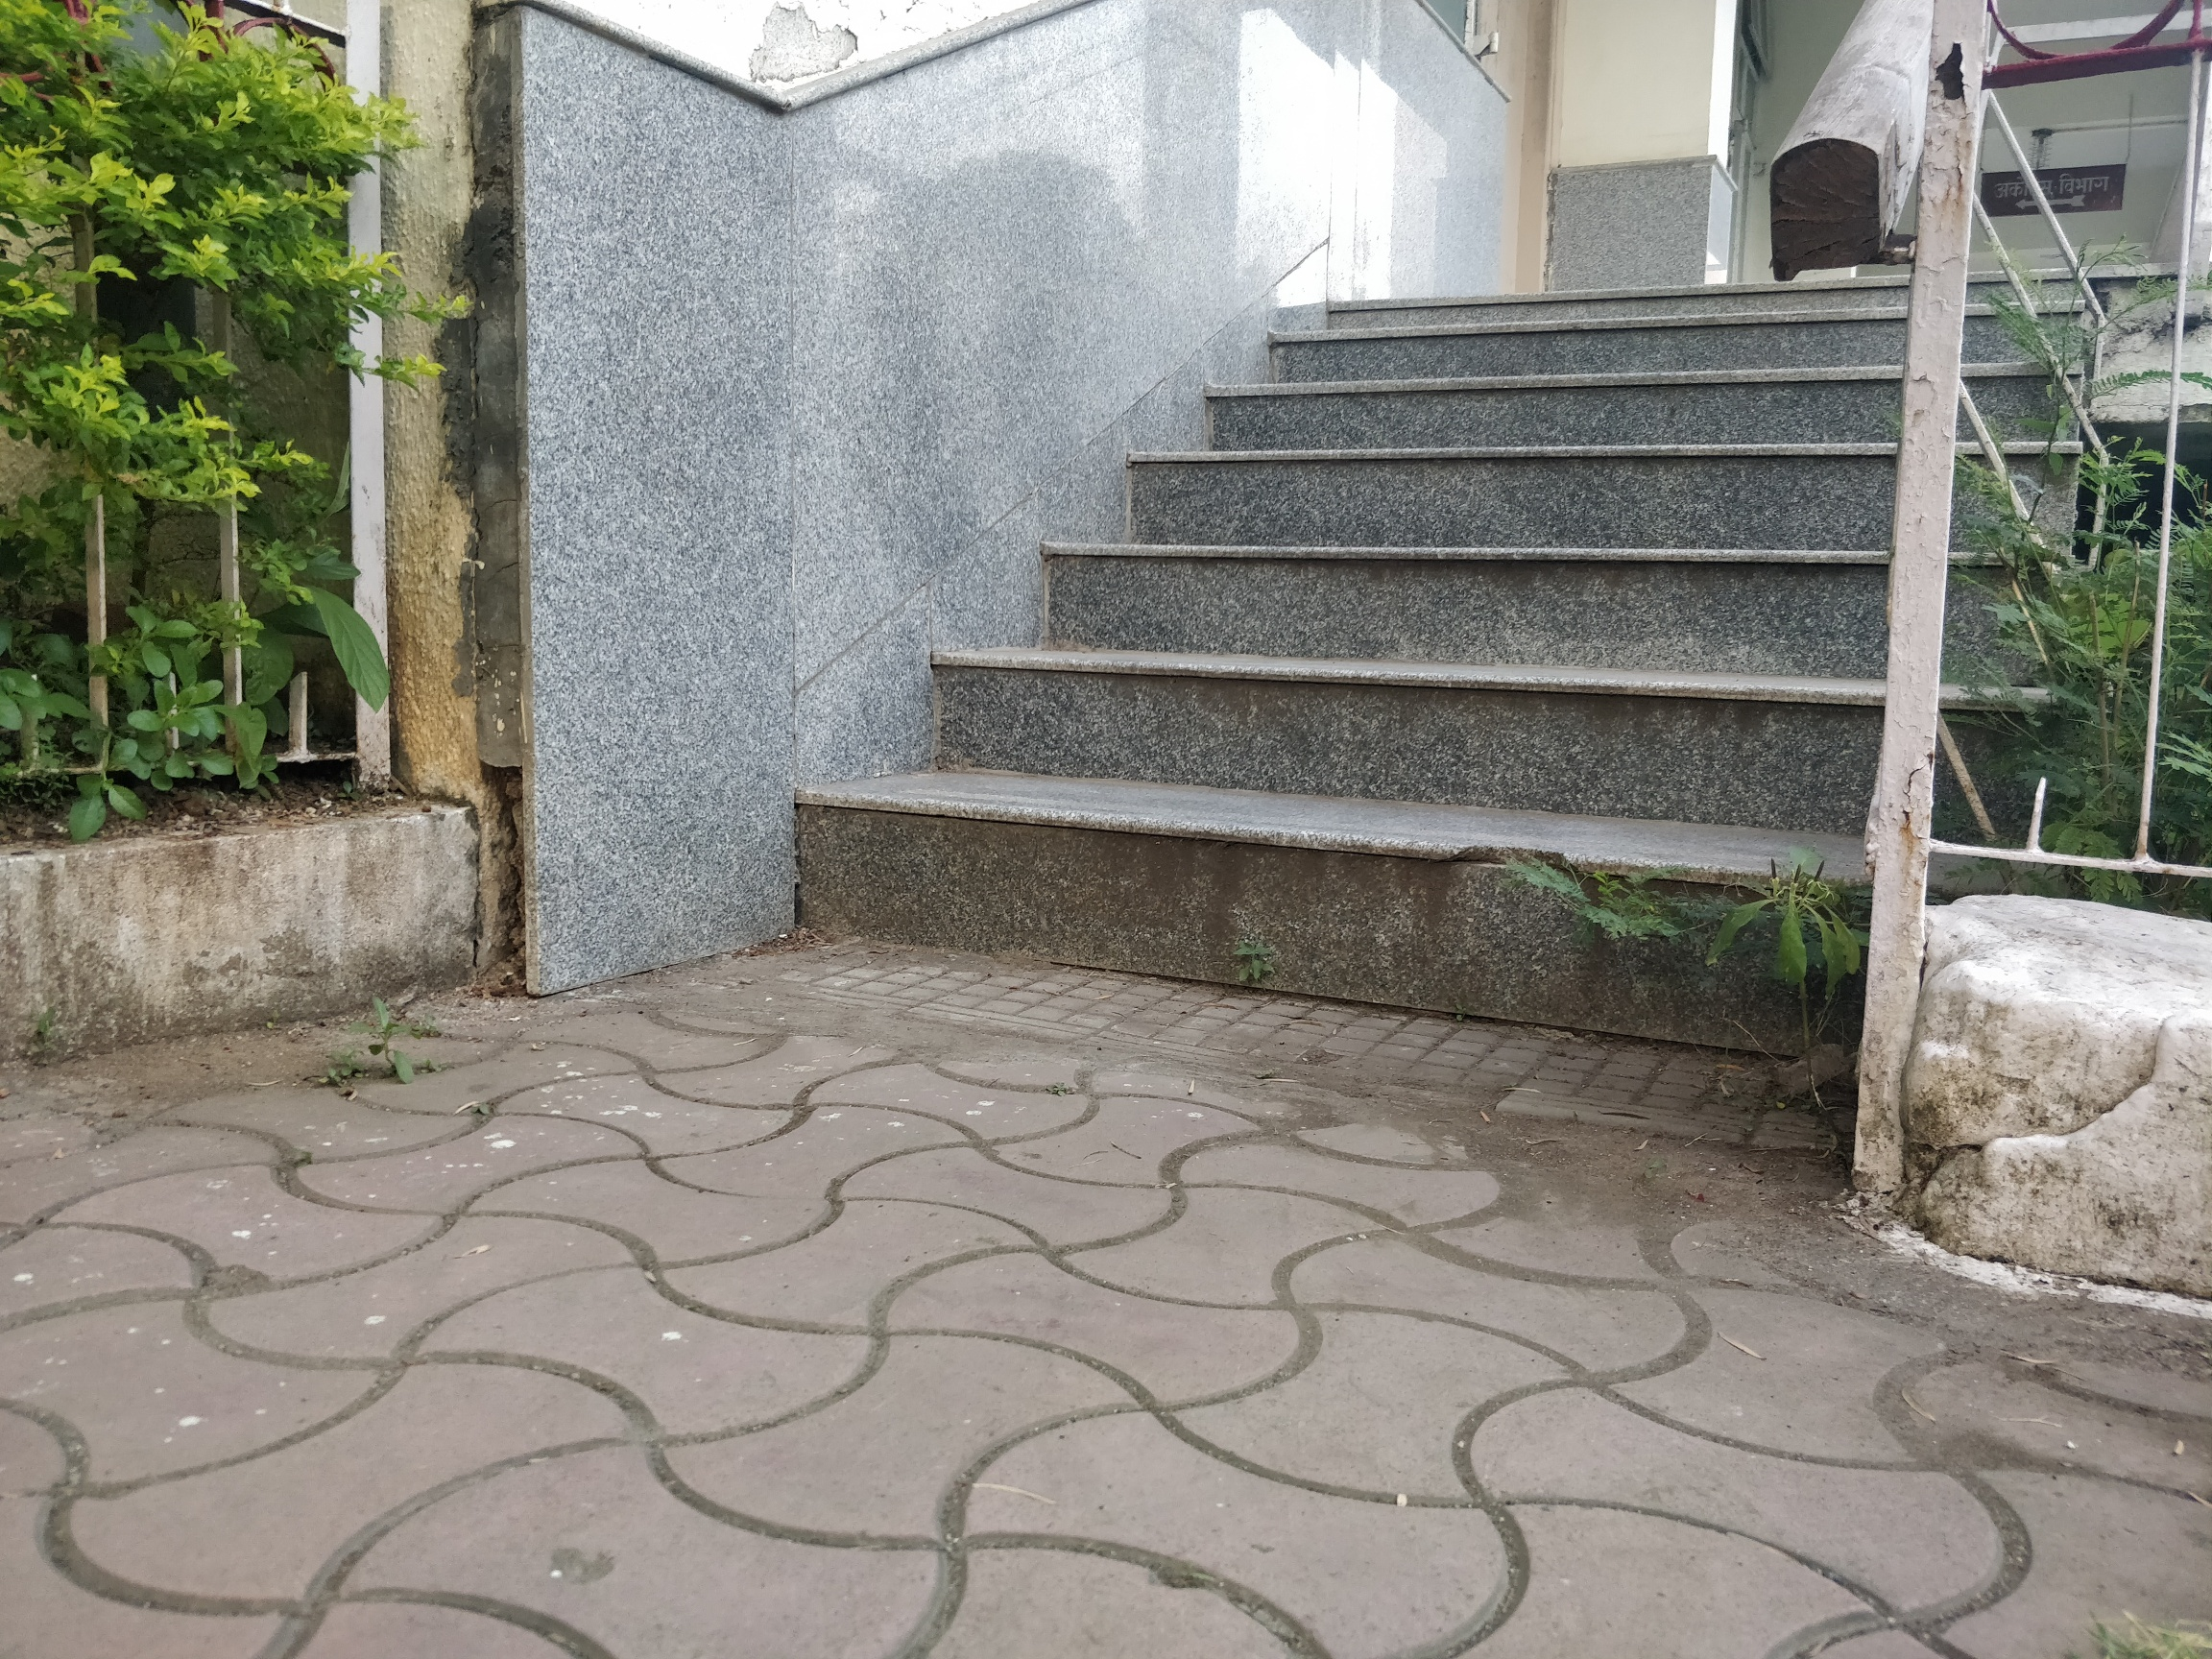stairs_up: (817, 232, 2116, 1093)
